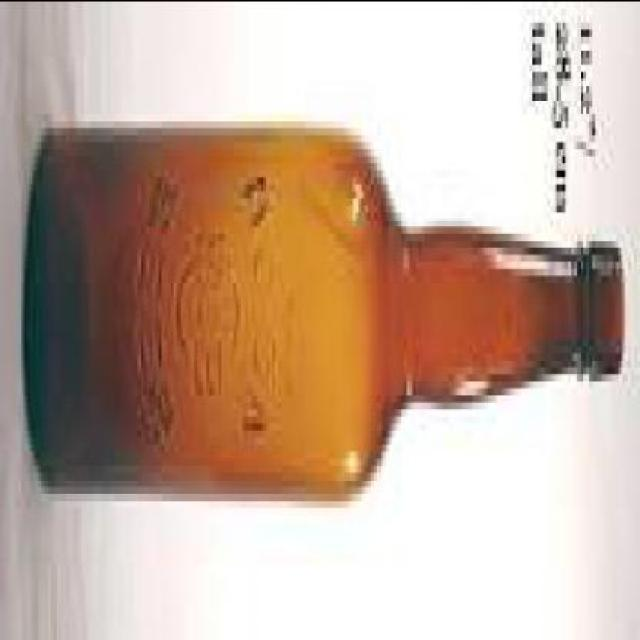GLASS: (28, 112, 628, 492)
